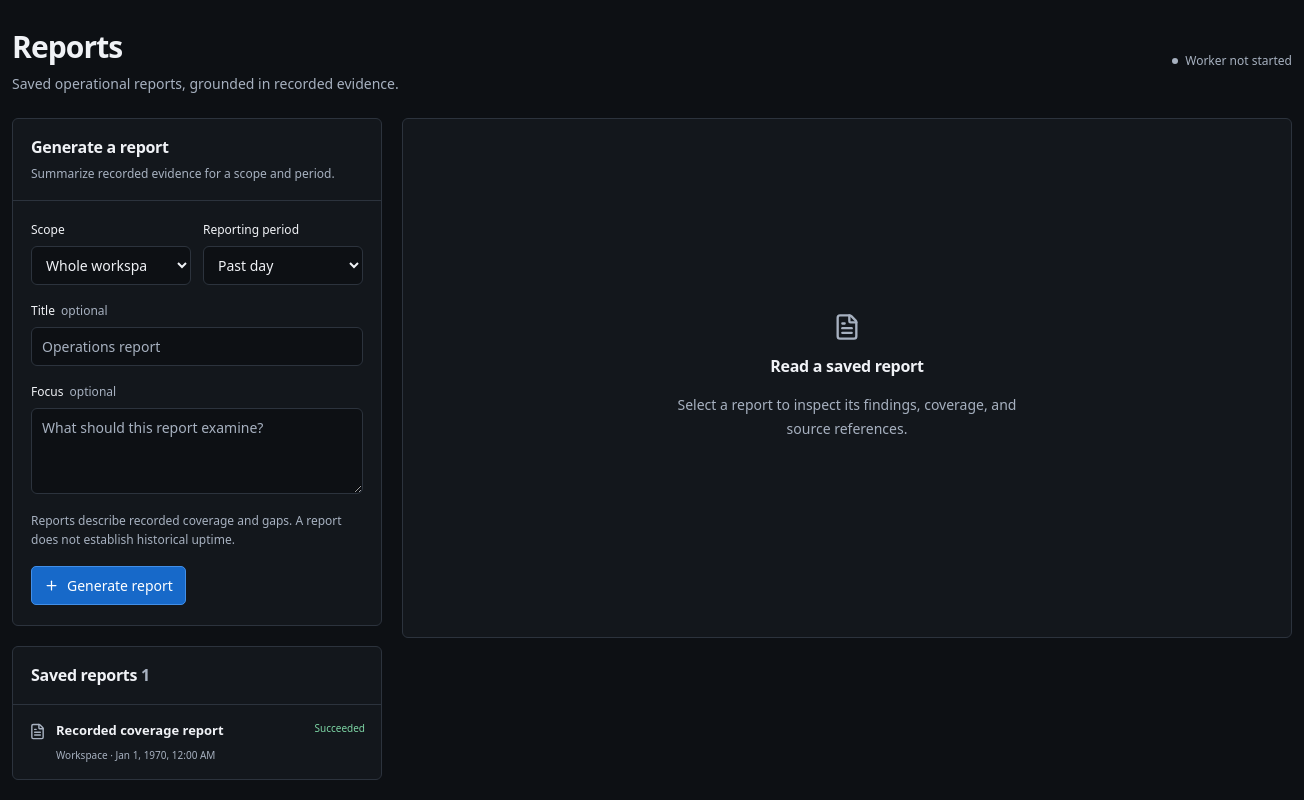
Scenario: persistent Studio interfaces › reads a saved report and records feedback on that report
The image size is (1304, 800).
Click the button "Recorded coverage report": [197, 742] box top-left (13, 705), bottom-right (381, 779)
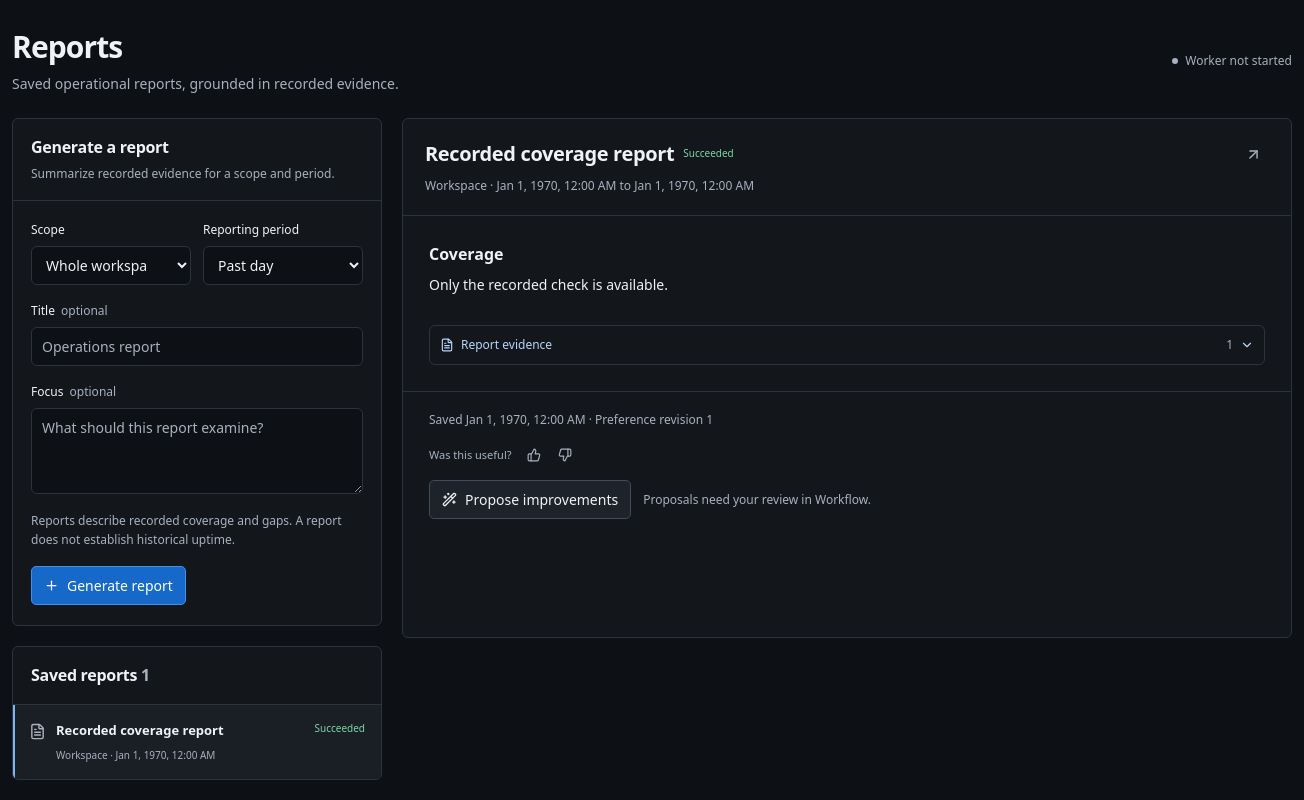
Expected: the text "Only the recorded check is available." is shown, top-left (429, 275), bottom-right (668, 294)
Click the button named "Helpful": [534, 455] box top-left (520, 441), bottom-right (548, 468)
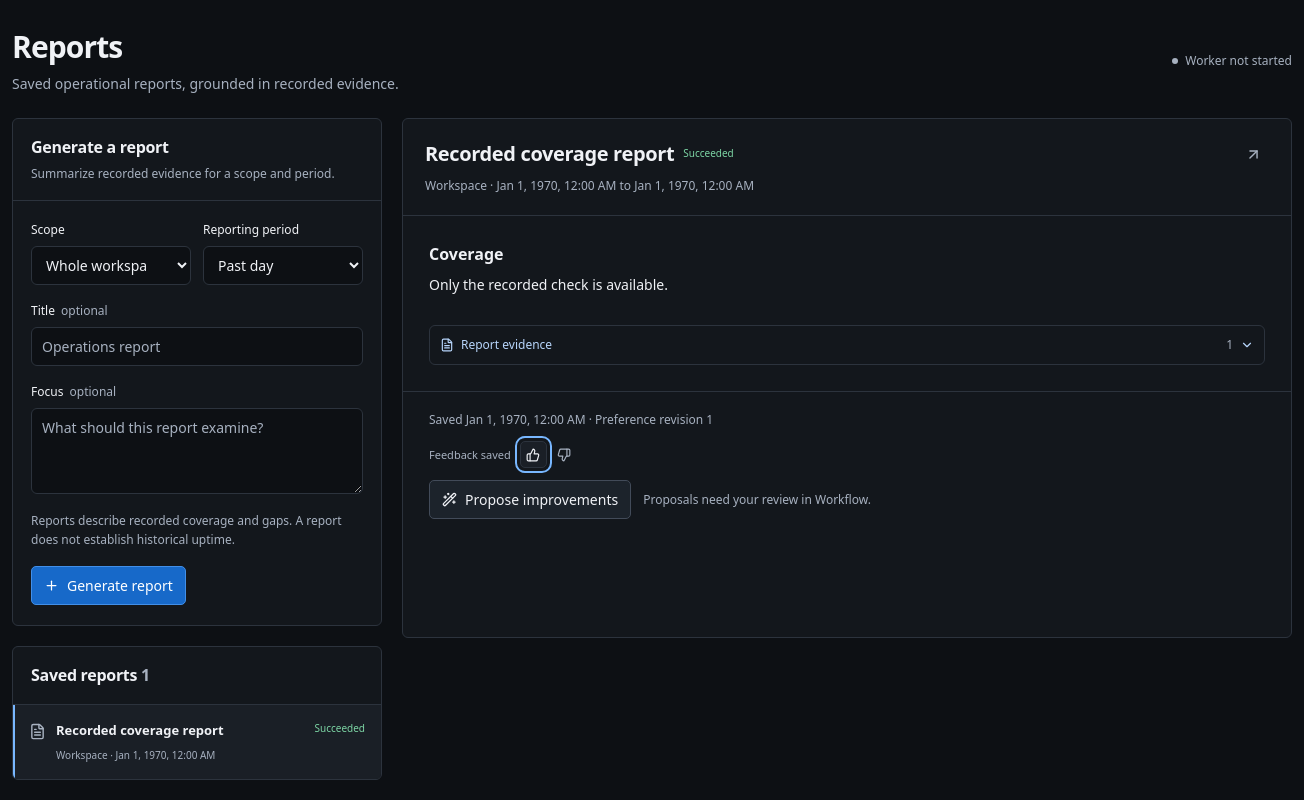
Expected: the text "Feedback saved" is shown, top-left (429, 446), bottom-right (511, 464)
